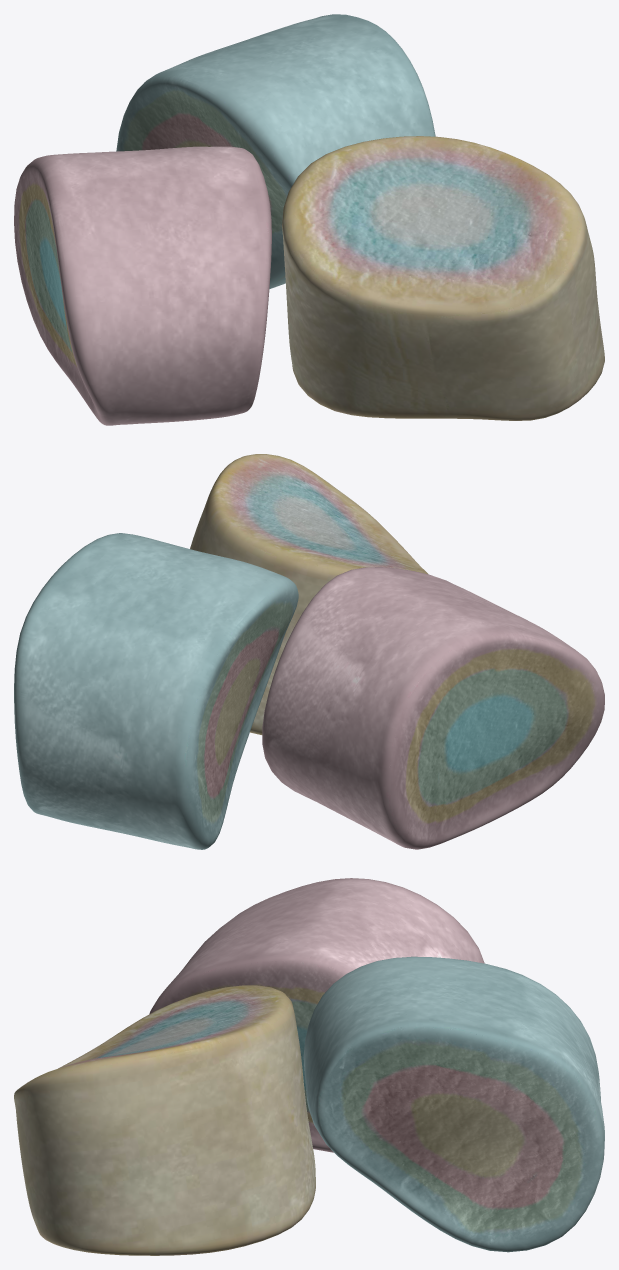
The model's file is Marshmallows.obj.
3 renders of one model, top to bottom at view 1: azimuth 30°, elevation 25°; view 2: azimuth 150°, elevation 25°; view 3: azimuth 270°, elevation 25°, orthographic. The views are drawn at different scales.
Parts seen in each view (by area): view 1: MarshmallowMidPoly, MarshmallowMidPoly.001, MarshmallowMidPoly.002; view 2: MarshmallowMidPoly.001, MarshmallowMidPoly.002, MarshmallowMidPoly; view 3: MarshmallowMidPoly.002, MarshmallowMidPoly, MarshmallowMidPoly.001.
Boxes of the visible parts, <box> form: MarshmallowMidPoly: <box>282,136,604,420</box>; MarshmallowMidPoly.001: <box>14,146,271,425</box>; MarshmallowMidPoly.002: <box>116,14,435,289</box>; MarshmallowMidPoly.001: <box>262,567,604,849</box>; MarshmallowMidPoly.002: <box>14,533,298,849</box>; MarshmallowMidPoly: <box>190,454,427,734</box>; MarshmallowMidPoly.002: <box>303,956,604,1252</box>; MarshmallowMidPoly: <box>14,985,315,1255</box>; MarshmallowMidPoly.001: <box>149,878,484,1152</box>.
Bounding box in the file's own units: 3.08 × 1.55 × 3.42.
